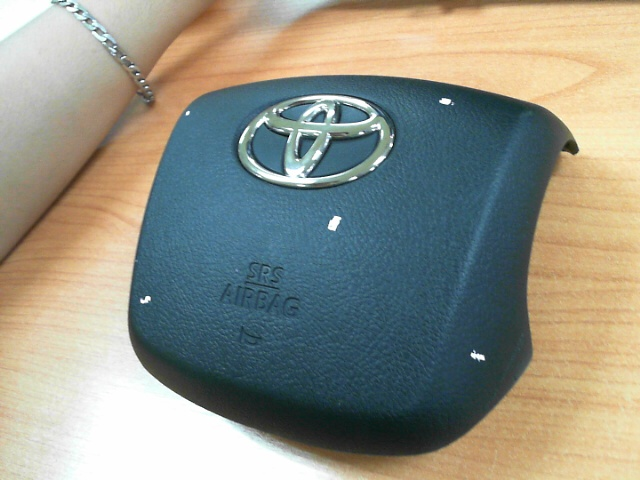Airbag: (470, 348, 486, 364), (327, 216, 342, 231), (438, 97, 456, 107), (139, 295, 152, 304), (185, 111, 191, 116)
